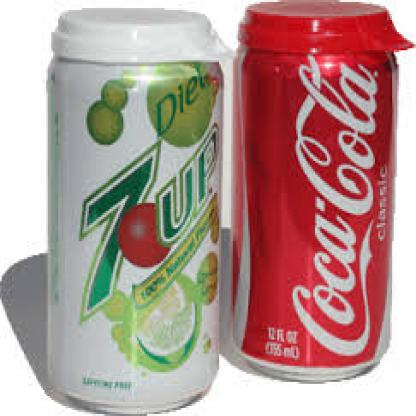METAL: (44, 28, 221, 414), (222, 20, 390, 382)
